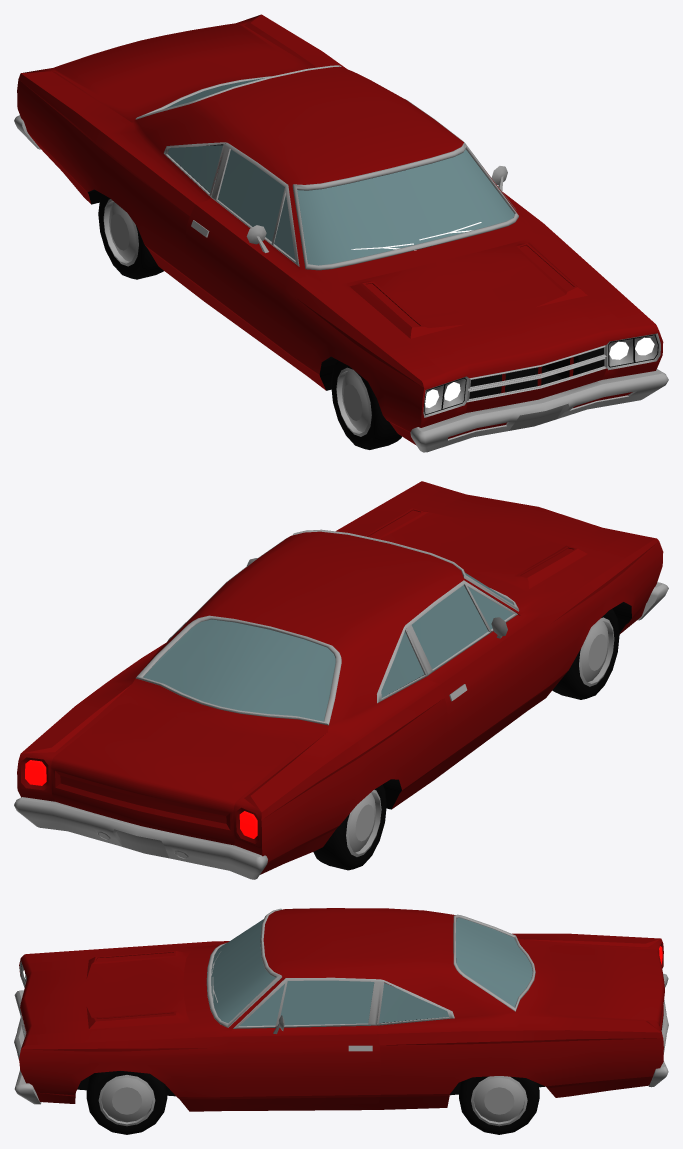
File: coolcar.glb
3 renders of one model, top to bottom at view 1: azimuth 30°, elevation 25°; view 2: azimuth 150°, elevation 25°; view 3: azimuth 270°, elevation 25°, orthographic. The views are drawn at different scales.
Parts seen in each view (by area): view 1: Object_7, Object_3, Object_8, Object_9, Object_4, Object_2; view 2: Object_7, Object_3, Object_8, Object_9, Object_5, Object_4; view 3: Object_7, Object_3, Object_8, Object_9.
Boxes of the visible parts, x1,y1,x2,y2 form: Object_7: (17, 14, 663, 445); Object_3: (164, 78, 514, 265); Object_8: (14, 65, 668, 452); Object_9: (98, 194, 401, 449); Object_4: (87, 143, 658, 415); Object_2: (425, 337, 654, 407); Object_7: (17, 481, 663, 874); Object_3: (143, 572, 513, 721); Object_8: (14, 529, 668, 879); Object_9: (313, 608, 619, 870); Object_5: (25, 760, 257, 838); Object_4: (382, 589, 631, 809); Object_7: (19, 908, 664, 1111); Object_3: (211, 918, 532, 1026); Object_8: (14, 908, 668, 1126); Object_9: (86, 1071, 539, 1134).
Bounding box in the file's own units: 1.26 × 0.8862 × 3.38.
